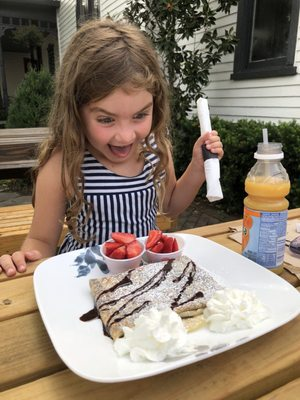soup: (89, 260, 180, 340)
sushi: (100, 241, 146, 275)
